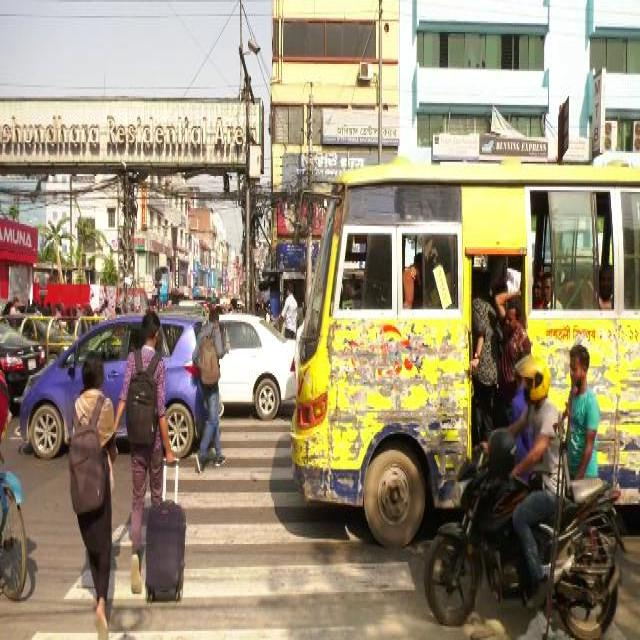10: (416, 406, 628, 639)
15: (18, 305, 222, 463)
5: (216, 305, 300, 424)
Truck: (287, 155, 639, 549)
